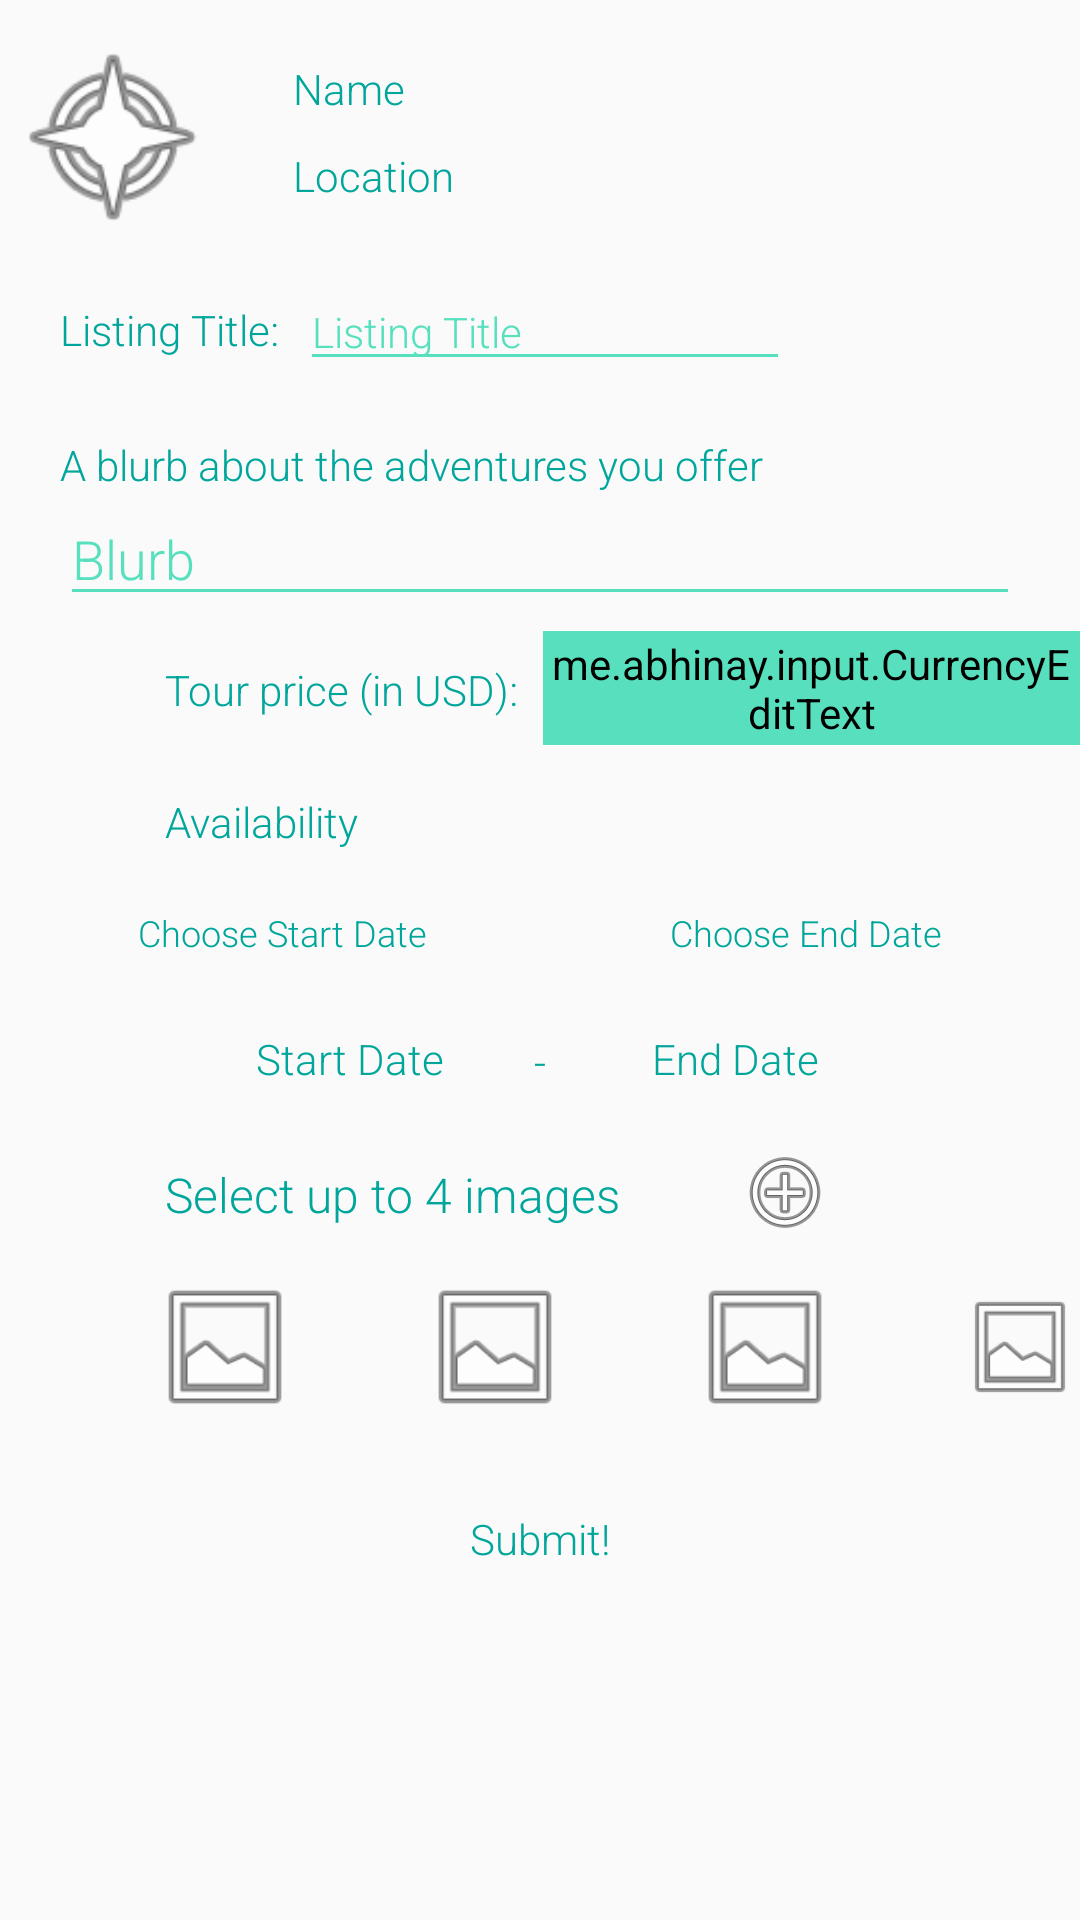

Locate icon controls on the screen. Image size 1080*1920, boxes as (x1, y1, x2, y2).
add: (749, 1157, 821, 1228)
compass: (29, 54, 195, 220)
gallery: (168, 1290, 282, 1404), (438, 1290, 552, 1404), (708, 1290, 822, 1404), (975, 1302, 1065, 1392)
